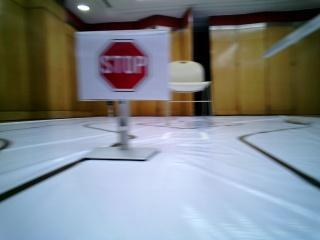stop: (85, 35, 169, 100)
